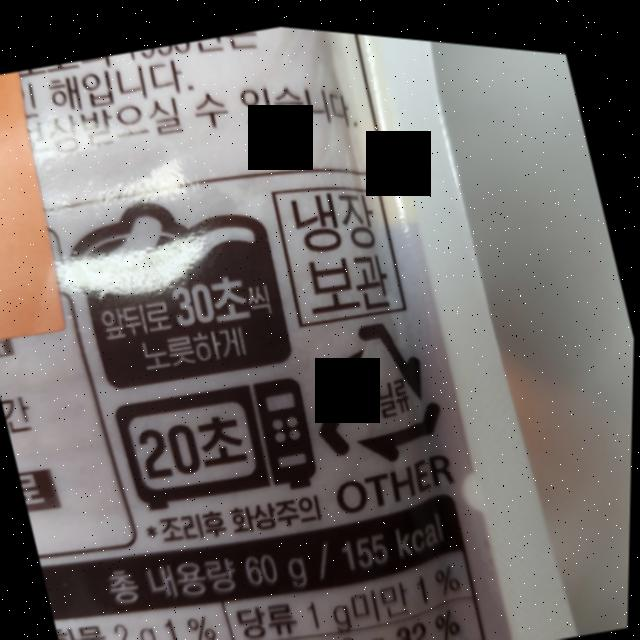Vinyl: (291, 294, 455, 475)
